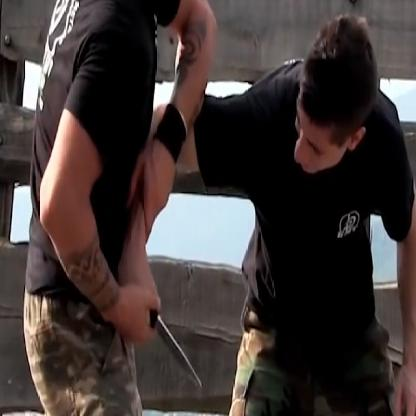knife: (128, 280, 209, 403)
